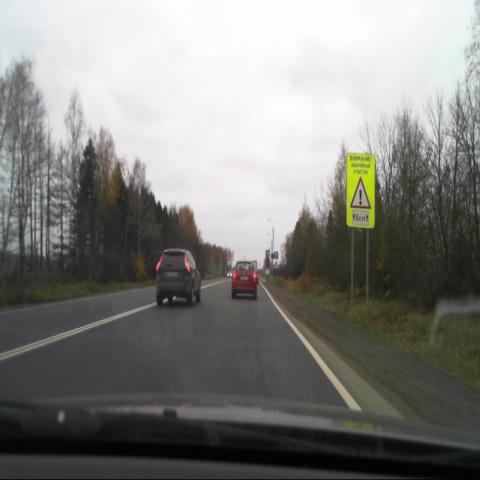1_33: (346, 175, 372, 208)
